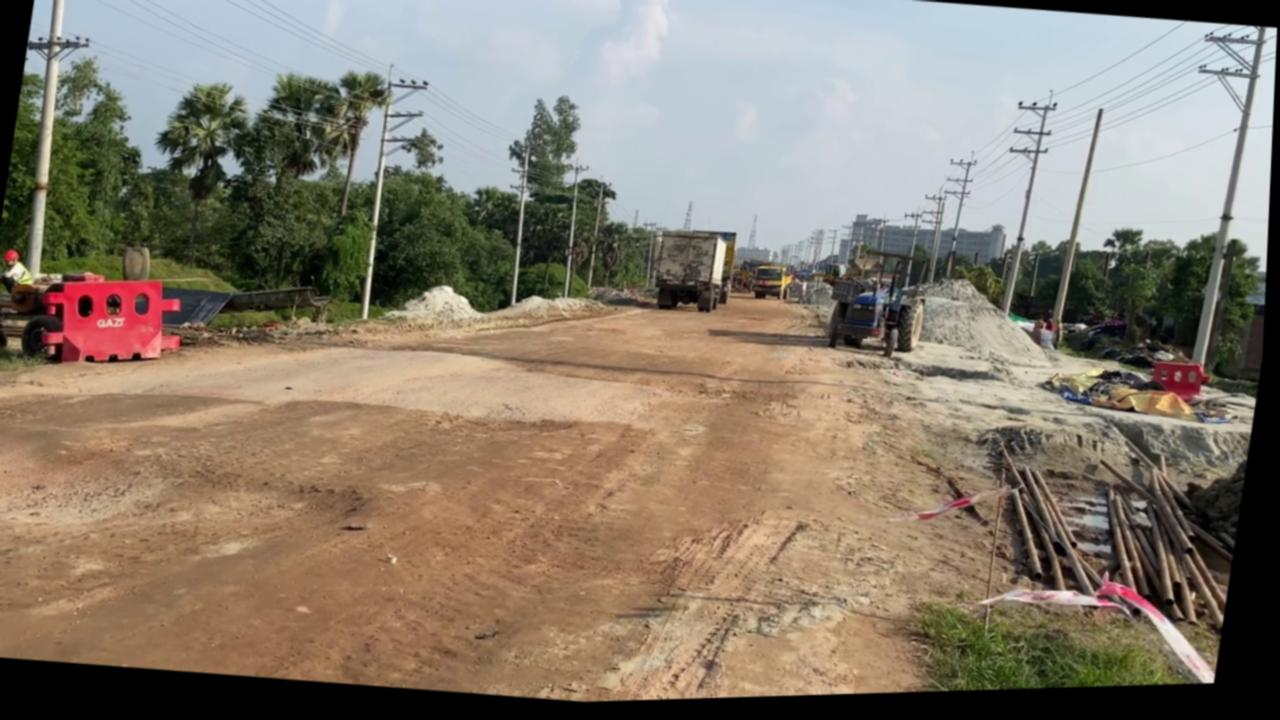Construction-barrier: (32, 266, 193, 374)
Muddy road: (0, 357, 1247, 720)
Pole: (1192, 33, 1268, 384), (11, 0, 88, 281), (354, 65, 407, 322), (1053, 112, 1105, 338), (503, 146, 542, 310)
Traffic-sign: (137, 74, 256, 273), (487, 91, 587, 313)
Tree: (825, 253, 935, 366), (0, 260, 110, 365), (650, 228, 739, 320), (694, 232, 742, 310), (752, 267, 799, 306)
